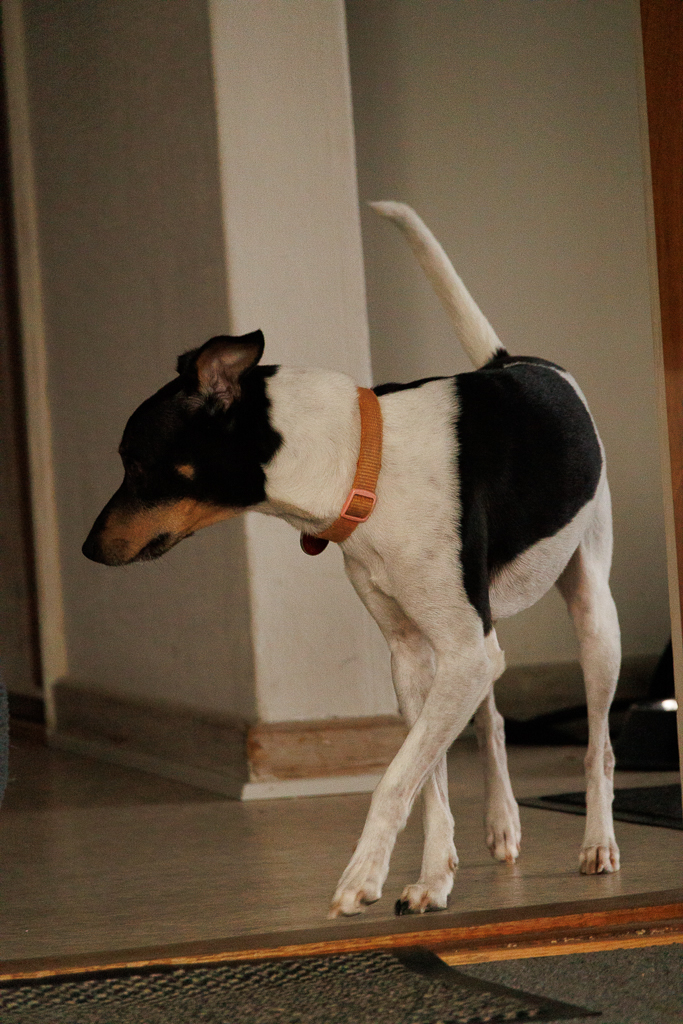Dog: (67, 195, 633, 936)
